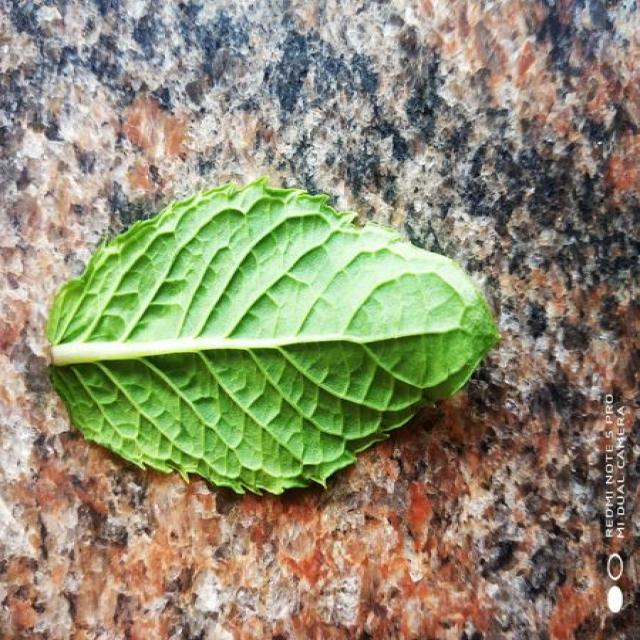mint: (47, 179, 498, 493)
